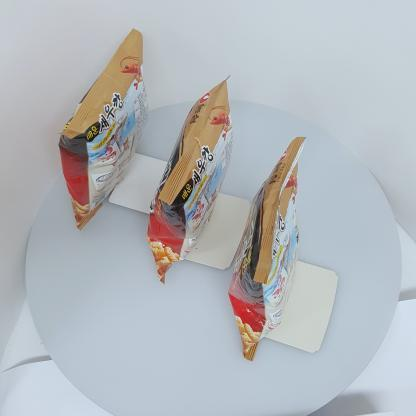Plastic Packaging: (55, 24, 145, 233), (226, 140, 306, 362), (146, 78, 232, 283)
